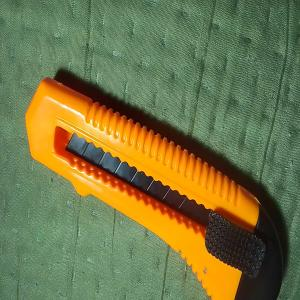estilete: (24, 76, 284, 300)
